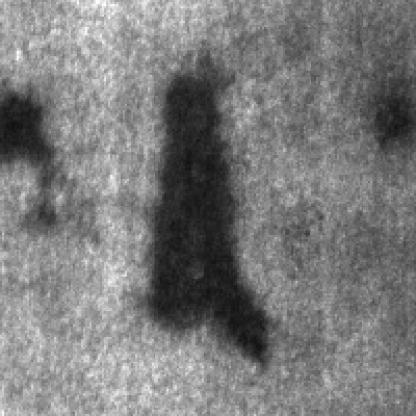patches: (147, 64, 278, 376), (2, 91, 52, 177), (370, 100, 416, 160)
